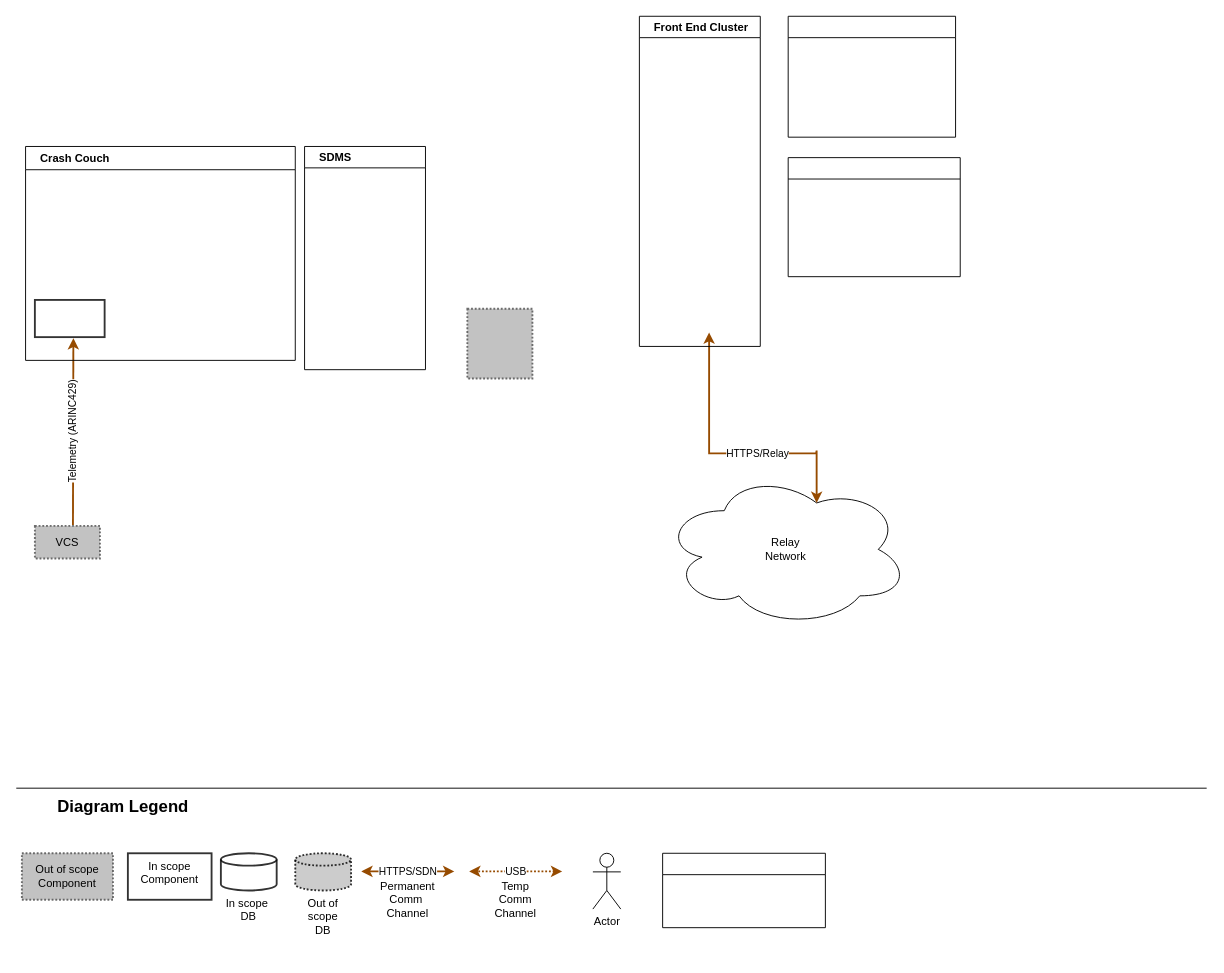
This 1224x973 diagram has some shape labels left out. The shapes that lost their labels are listed below. From the top down, each one's centre as x and y in pixels, then its label:
the point at 871,76: Back End Fleet Data
the point at 873,217: Back End Maintenance
the point at 69,318: 429 RCVR
the point at 499,343: Ship Relay Network Uplink
the point at 743,890: Component Group
